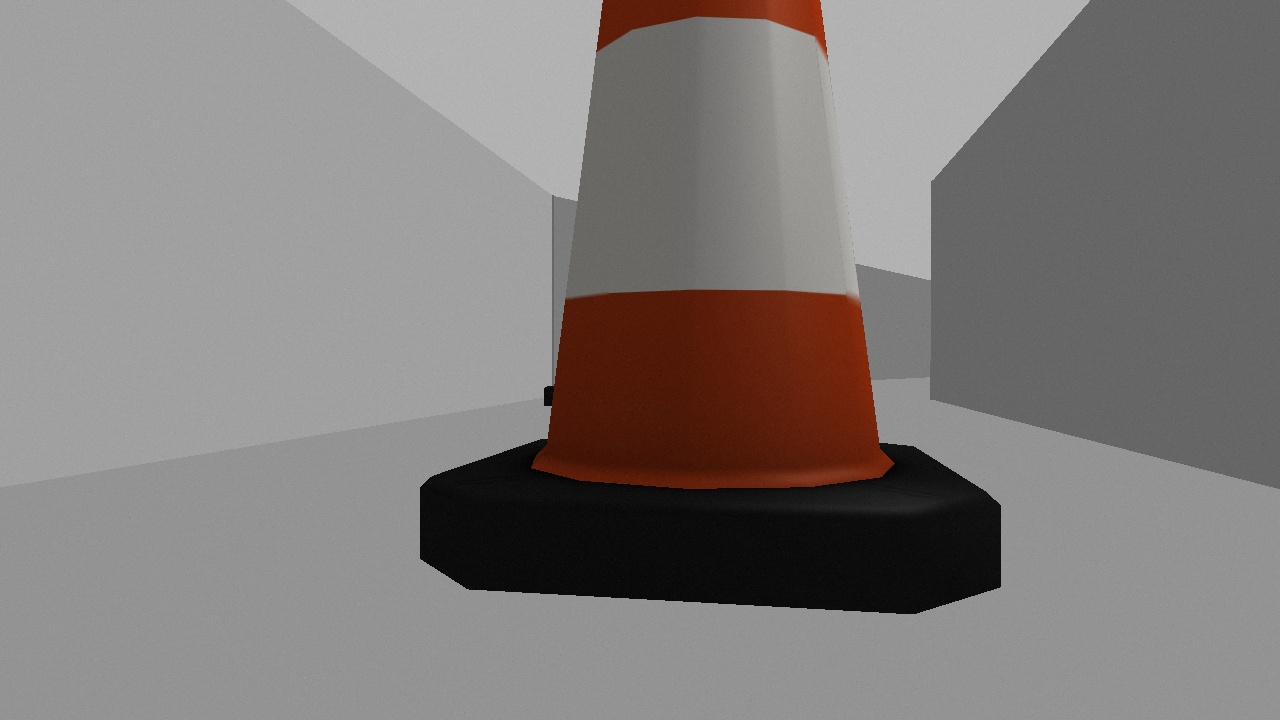barricade: (418, 1, 1003, 617)
